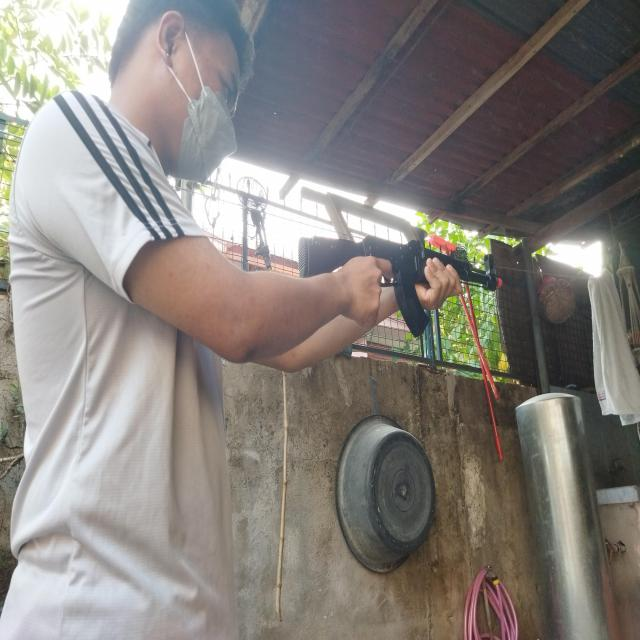rifle: (297, 222, 502, 330)
